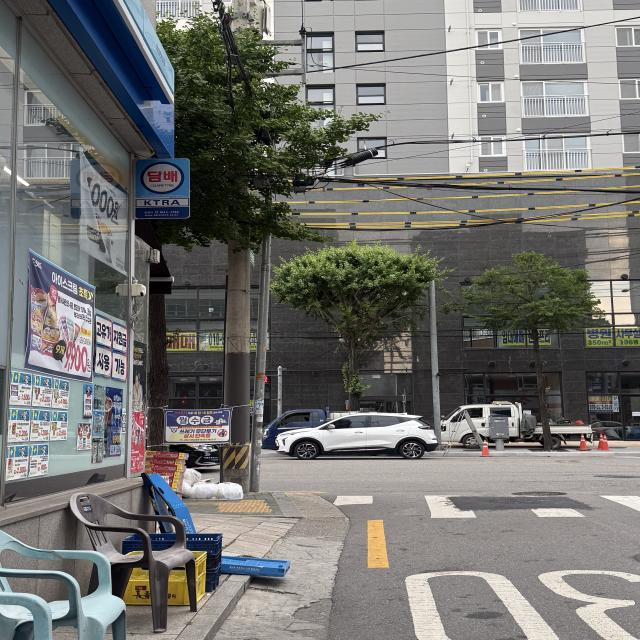car: (263, 397, 460, 464)
